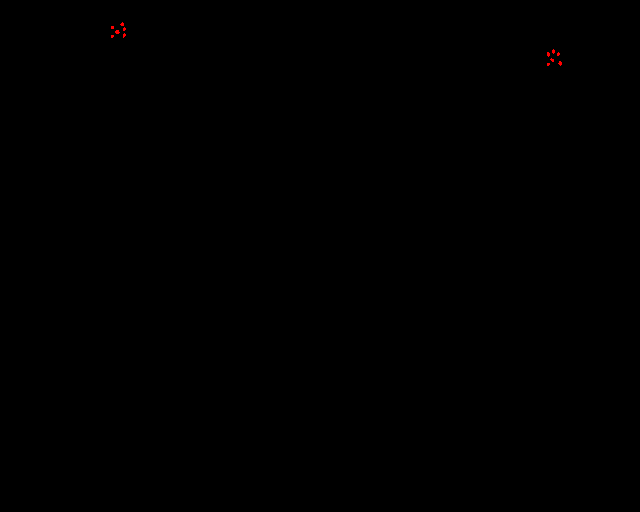Target: (115, 30, 120, 34), (558, 61, 562, 66), (120, 22, 124, 26), (550, 58, 554, 62), (123, 33, 126, 38), (552, 49, 555, 54), (547, 52, 550, 57), (123, 27, 126, 31), (557, 52, 560, 56), (111, 26, 114, 29), (111, 35, 114, 38), (547, 63, 550, 66)
